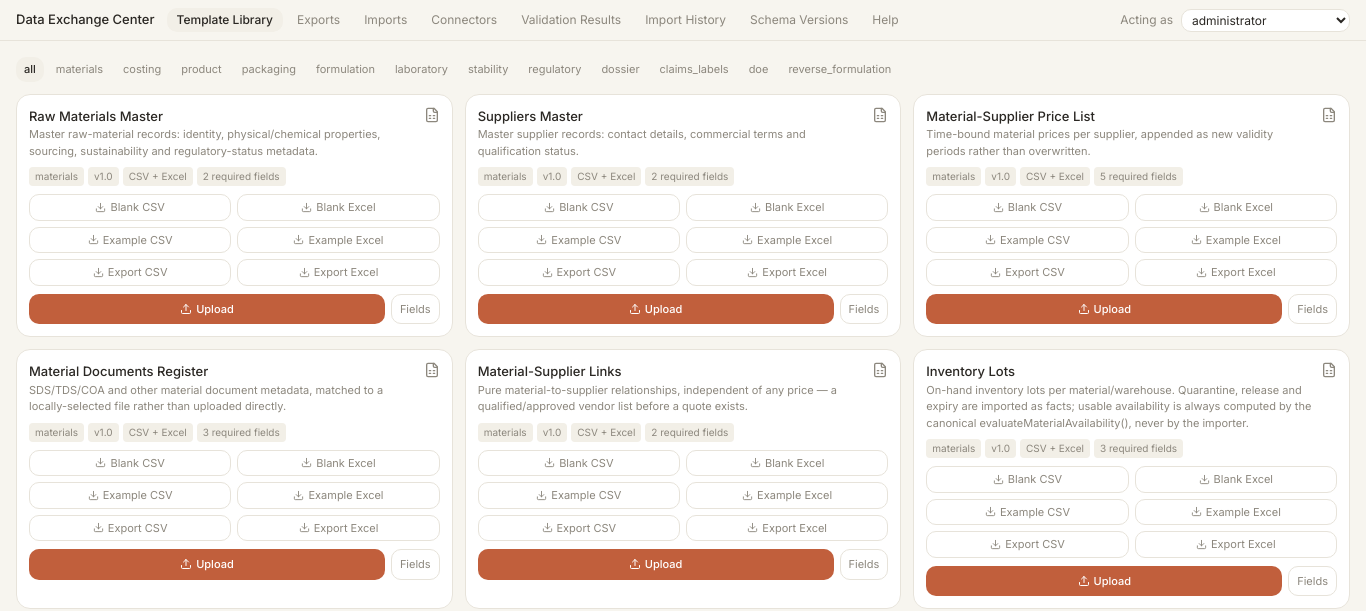
Test: DataExchangePage — Template Library › expands a card's field documentation
Click the button "Fields" below "Raw Materials Master".
click(415, 309)  # box [391, 294, 440, 324]
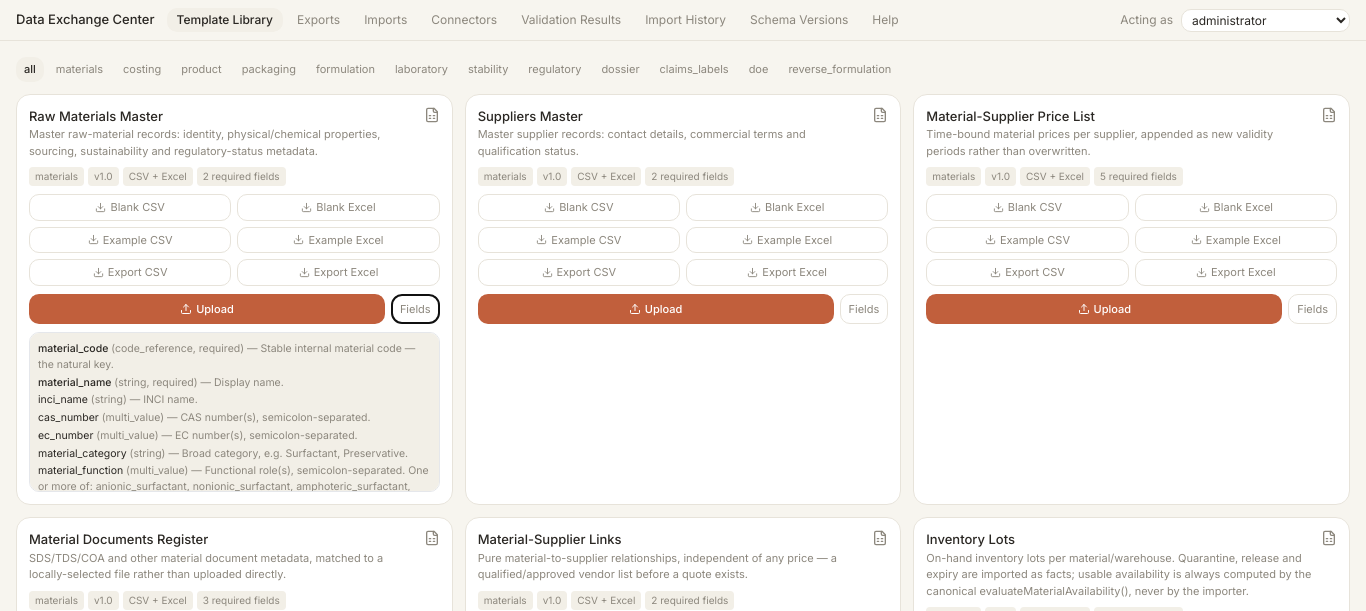
expect the text "material_code" is shown: met, box [38, 342, 108, 355]
